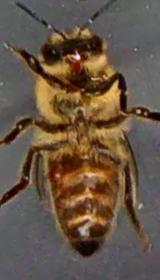varroa_mite: (42, 159, 68, 183)
